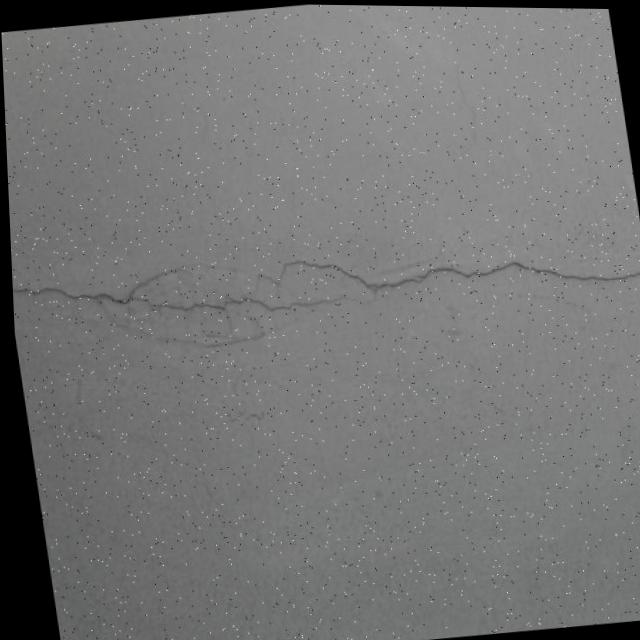Crack: (7, 193, 640, 378)
